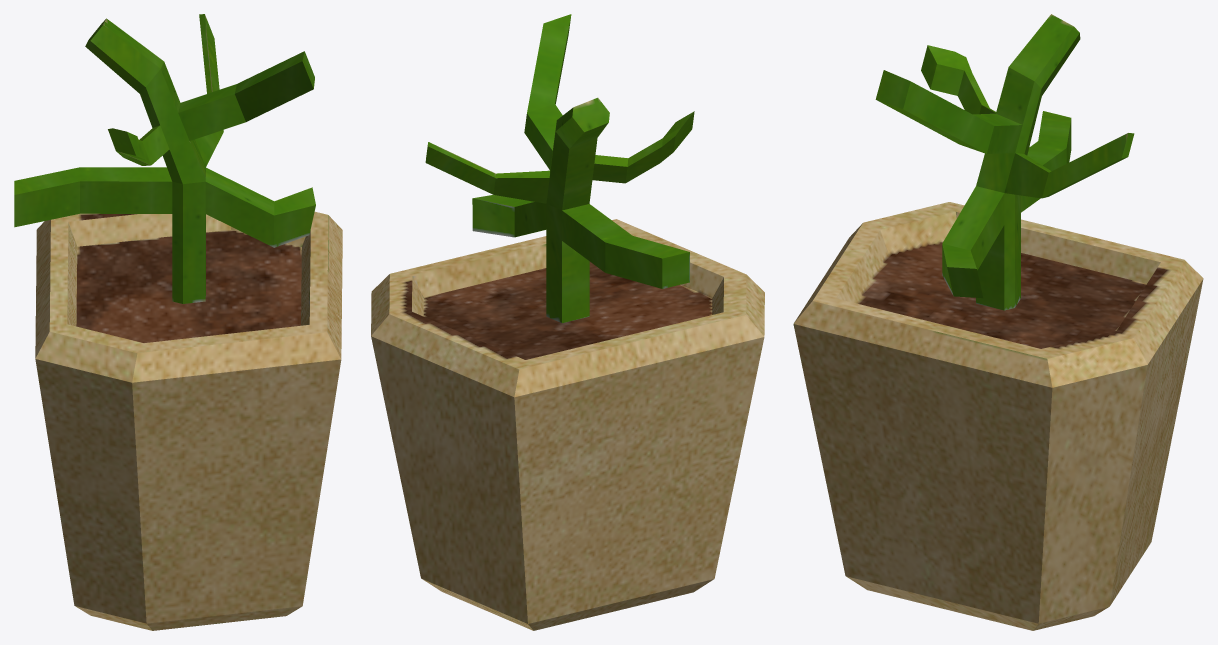
File: plant.fbx
3 views of the same model, side by side, from view 1: azimuth 30°, elevation 25°; view 2: azimuth 150°, elevation 25°; view 3: azimuth 270°, elevation 25° (orthographic). The views are drawn at different scales.
Parts seen in each view (by area): view 1: Cylinder.003; view 2: Cylinder.003; view 3: Cylinder.003.
Part boxes in pixels (x1,y1,x2,y2): Cylinder.003: (14,14,342,630); Cylinder.003: (371,14,764,630); Cylinder.003: (793,14,1203,630).
Bounding box in the file's own units: 251 × 361 × 251.
1 material, 1 textured.
